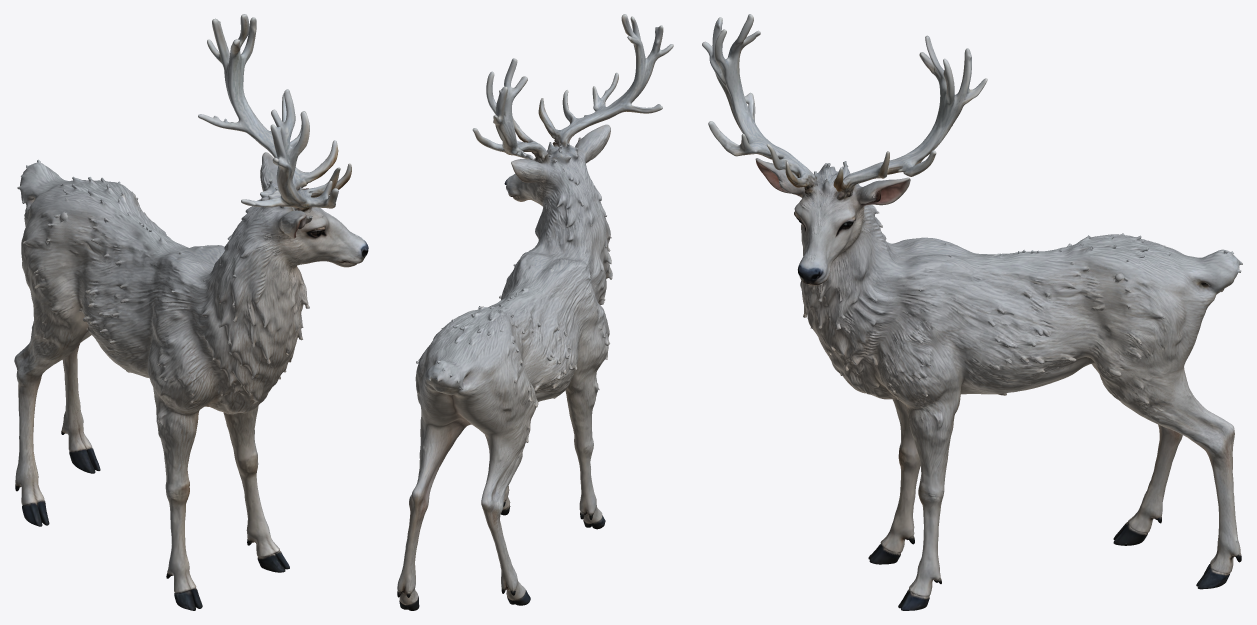
File: fuzhu.glb
3 renders of one model, left to right at view 1: azimuth 30°, elevation 25°; view 2: azimuth 150°, elevation 25°; view 3: azimuth 270°, elevation 25°, orthographic. The views are drawn at different scales.
Visible parts, largest first — view 1: tripo_node_531c74c0-04d1-428e-be31-10cb71cd16b8; view 2: tripo_node_531c74c0-04d1-428e-be31-10cb71cd16b8; view 3: tripo_node_531c74c0-04d1-428e-be31-10cb71cd16b8.
Part boxes in pixels (x1,y1,x2,y2): tripo_node_531c74c0-04d1-428e-be31-10cb71cd16b8: (14,14,368,610); tripo_node_531c74c0-04d1-428e-be31-10cb71cd16b8: (397,14,673,610); tripo_node_531c74c0-04d1-428e-be31-10cb71cd16b8: (702,14,1242,610).
Size of the model in its own units: 0.3363 by 0.9788 by 0.8534.
Materials: 1 (1 with a texture image).
